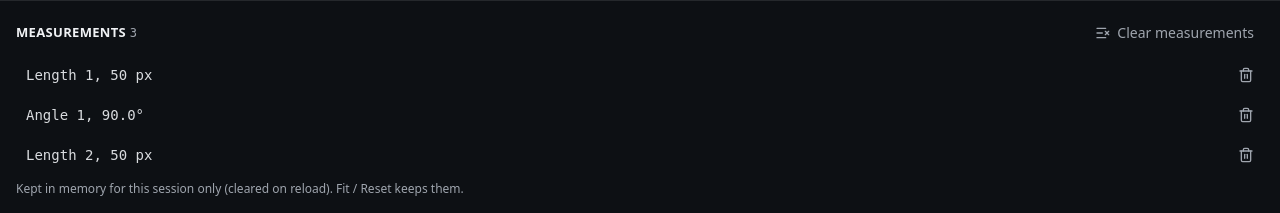
Test case: MeasurementsSection › lists numbered type and value with a labelled Delete per item; selecting selects on the image
The width and height of the screenshot is (1280, 213).
What coordinates should you click on to do the following:
click the button "Length 1, 50 px"
I would click on:
 (89, 75)
Its box is 16,57 -> 1224,93.
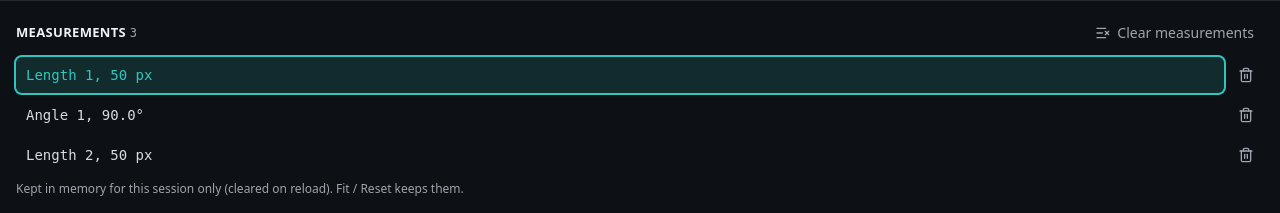
expect the button "Length 1, 50 px" is pressed: met, box 16,57 -> 1224,93
What coordinates should you click on to do the following:
click the button named "Delete Angle 1, 90.0°"
I would click on:
 (1246, 115)
Its box is 1228,97 -> 1264,133.
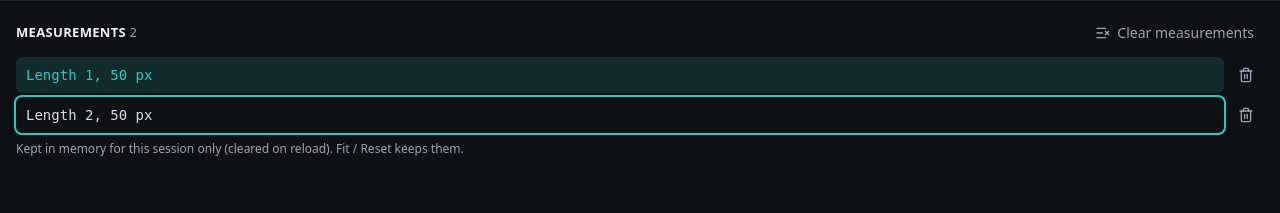
What coordinates should you click on to do the following:
click the button "Clear measurements"
I would click on:
 (1175, 33)
Its box is 1085,17 -> 1264,49.
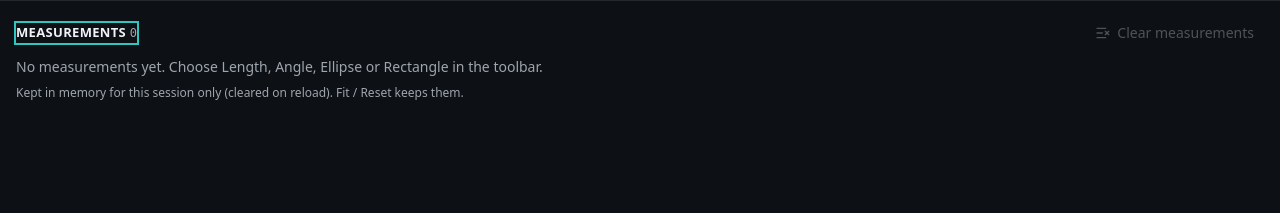
expect the text "No measurements yet. Choose Length, Angle, Ellipse or Rectangle in the toolbar." is shown: met, box 16,57 -> 543,76
